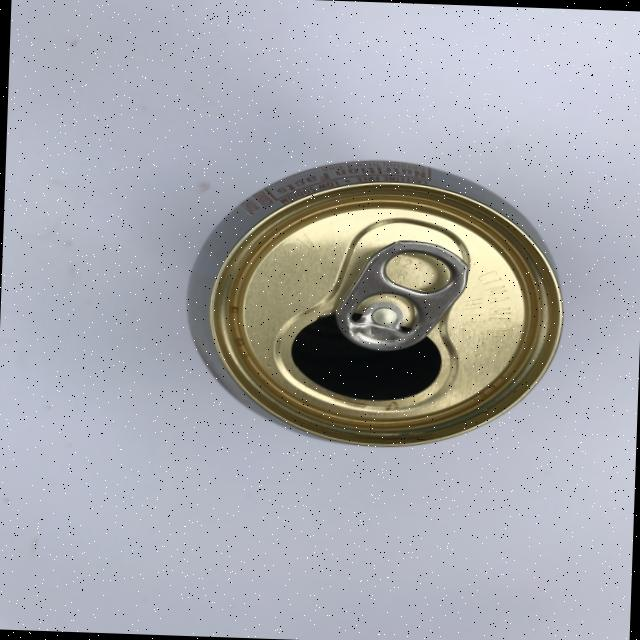metal: (182, 156, 568, 453)
